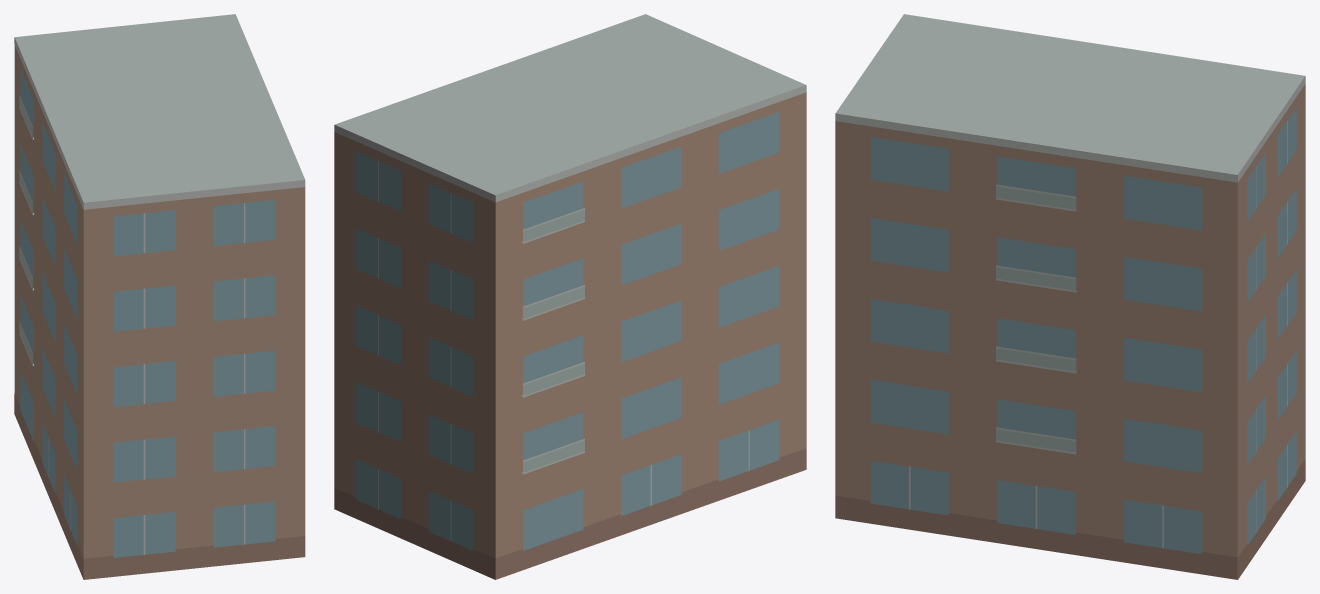
Rendered from survey-upis-32894283.glb.
3 views of the same model, side by side, from view 1: azimuth 30°, elevation 25°; view 2: azimuth 150°, elevation 25°; view 3: azimuth 270°, elevation 25° (orthographic). The views are drawn at different scales.
Visible parts, largest first — view 1: survey-upis-32894283.tmp; view 2: survey-upis-32894283.tmp; view 3: survey-upis-32894283.tmp.
Boxes of the visible parts, x1,y1,x2,y2 form: survey-upis-32894283.tmp: (14,14,305,579); survey-upis-32894283.tmp: (334,14,806,579); survey-upis-32894283.tmp: (835,14,1305,579).
Size of the model in its own units: 11.19 by 13.1 by 13.8.
